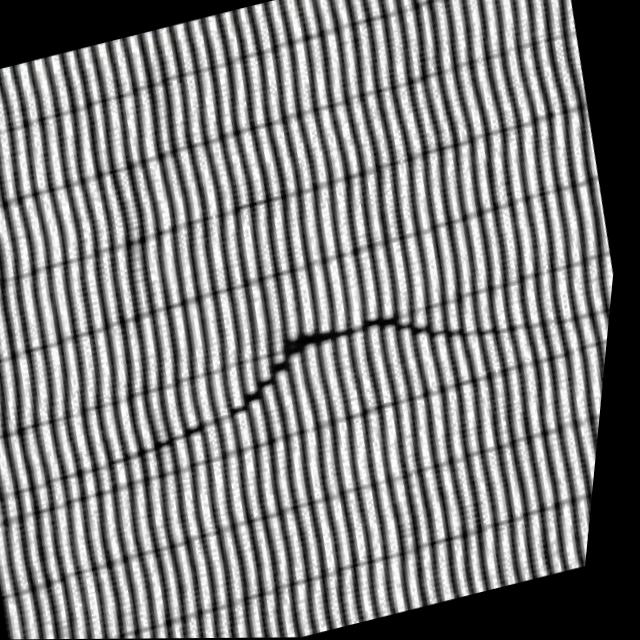Stitch: (90, 264, 547, 483)
